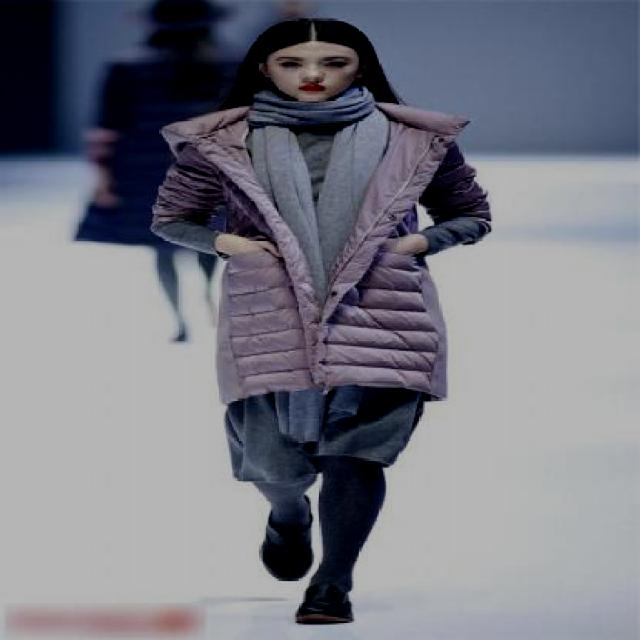Person: (91, 0, 512, 637)
